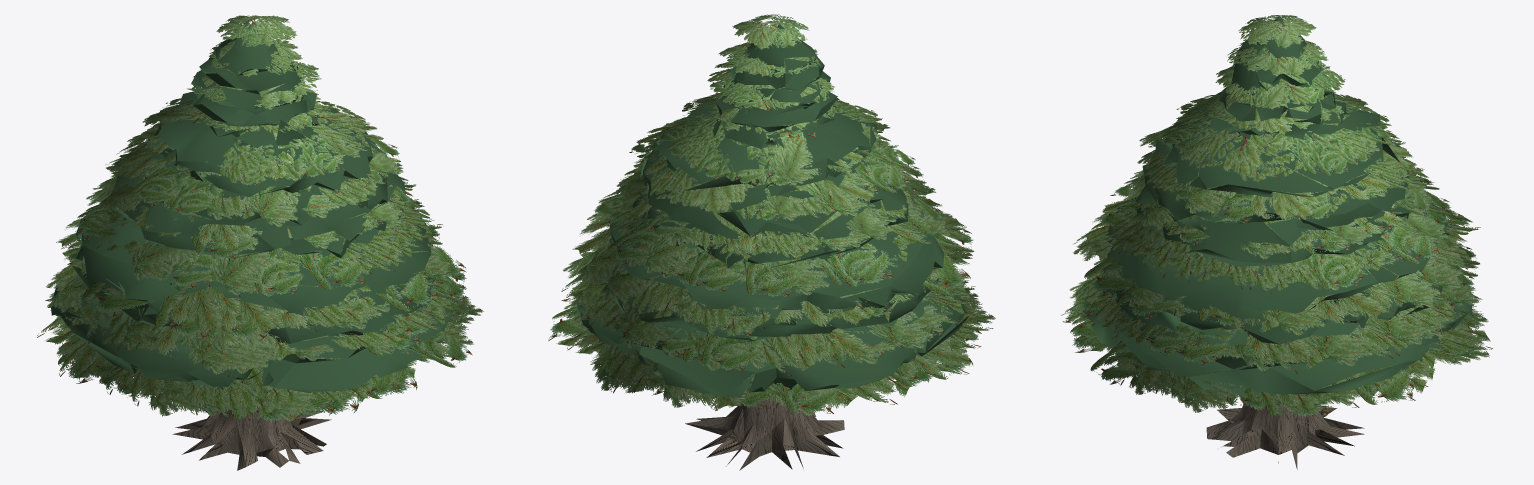
Rendered from tree_spruce_2.glb.
3 views of the same model, side by side, from view 1: azimuth 30°, elevation 25°; view 2: azimuth 150°, elevation 25°; view 3: azimuth 270°, elevation 25° (orthographic).
Visible parts, largest first — view 1: Leaves, CrownCore, Trunk; view 2: Leaves, CrownCore, Trunk; view 3: Leaves, CrownCore, Trunk.
Boxes of the visible parts, x1,y1,x2,y2 form: Leaves: [37, 15, 483, 423]; CrownCore: [51, 21, 454, 396]; Trunk: [172, 406, 331, 470]; Leaves: [548, 14, 995, 416]; CrownCore: [576, 24, 969, 397]; Trunk: [685, 393, 844, 470]; Leaves: [1061, 15, 1492, 419]; CrownCore: [1082, 16, 1472, 395]; Trunk: [1206, 402, 1364, 469].
Size of the model in its own units: 5.67 by 5.47 by 5.69.
Materials: 3 (2 with a texture image).
